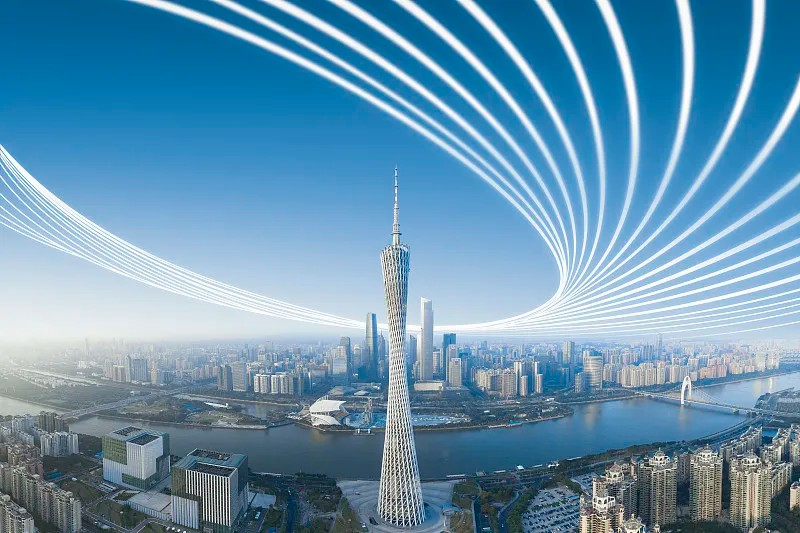Canton: (376, 161, 426, 525)
